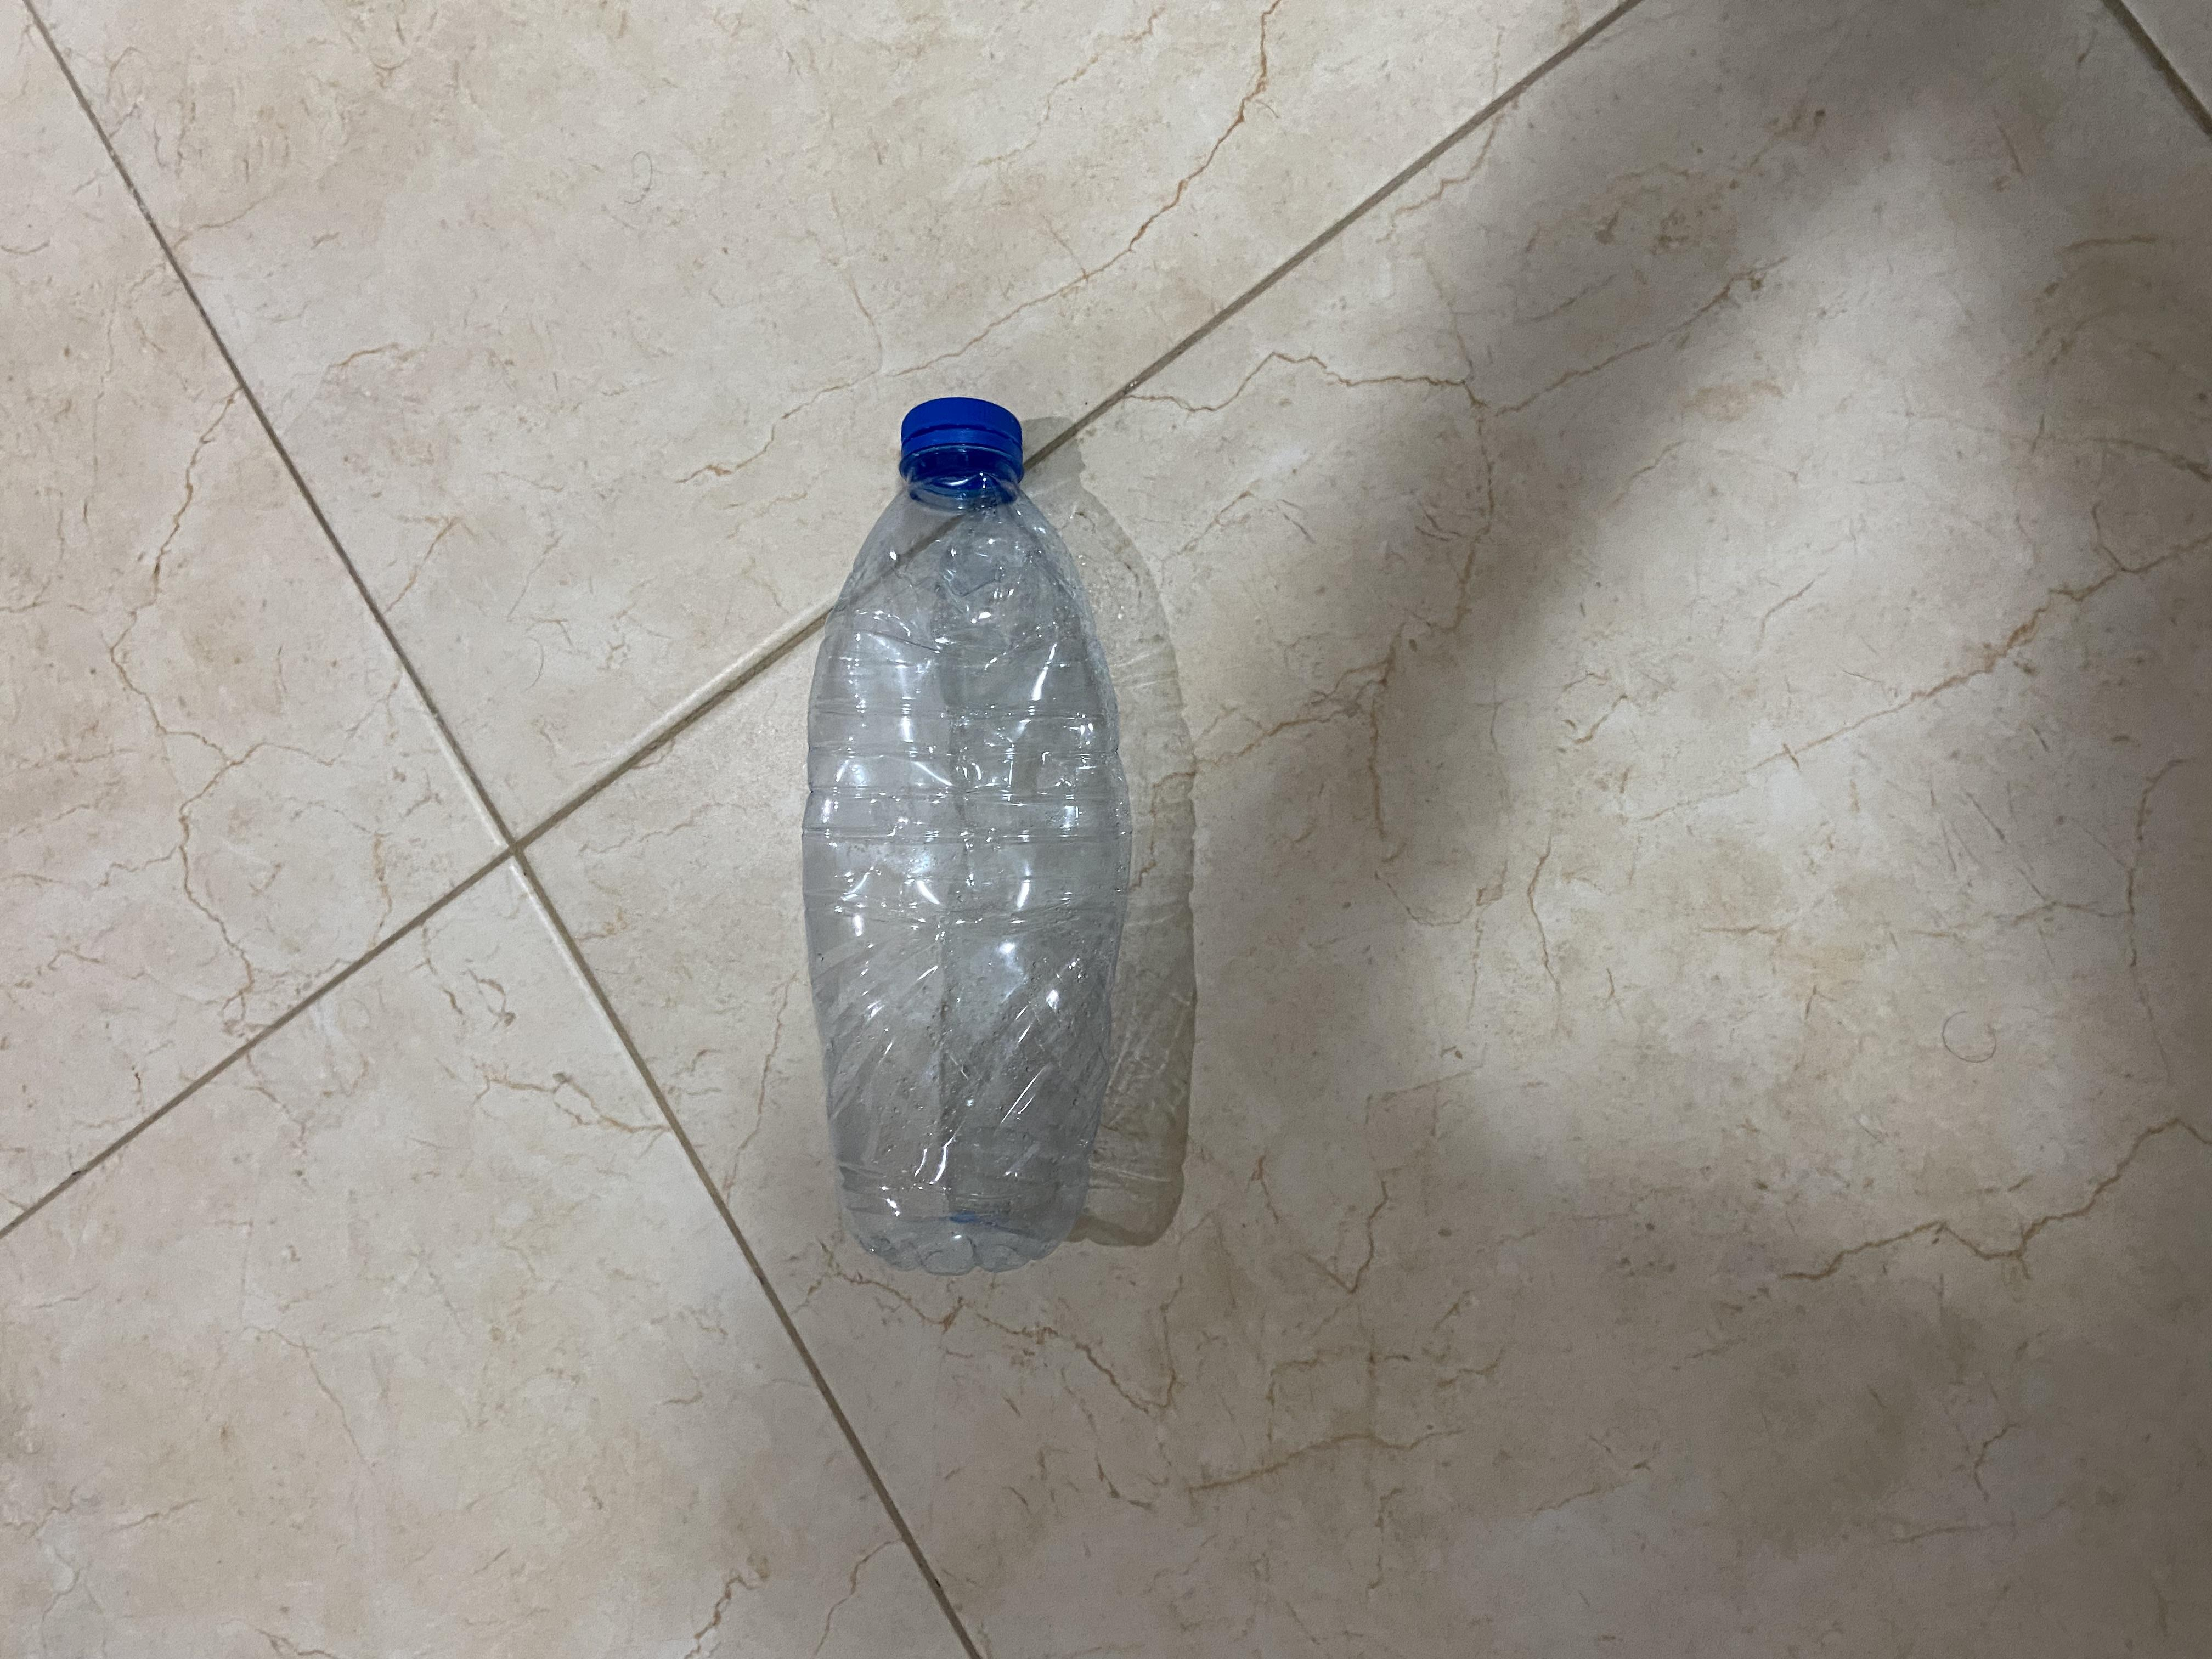bottle: (489, 636, 1693, 789)
